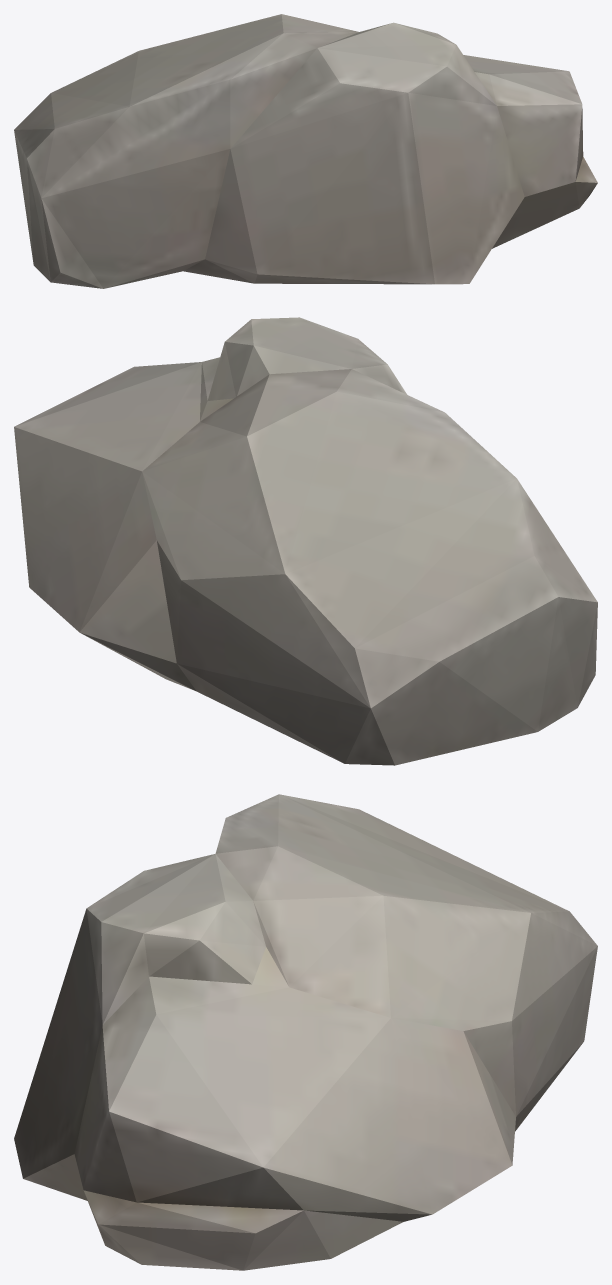
The model's file is rock_03.glb.
3 renders of one model, top to bottom at view 1: azimuth 30°, elevation 25°; view 2: azimuth 150°, elevation 25°; view 3: azimuth 270°, elevation 25°, orthographic. The views are drawn at different scales.
Parts seen in each view (by area): view 1: SM_Rocks_03_RocksStylized_M_0; view 2: SM_Rocks_03_RocksStylized_M_0; view 3: SM_Rocks_03_RocksStylized_M_0.
Boxes of the visible parts, x1,y1,x2,y2 form: SM_Rocks_03_RocksStylized_M_0: (14,14,597,288); SM_Rocks_03_RocksStylized_M_0: (14,317,597,765); SM_Rocks_03_RocksStylized_M_0: (14,794,597,1270).
Bounding box in the file's own units: 5.67 × 2.25 × 4.17.
1 material, 1 textured.
